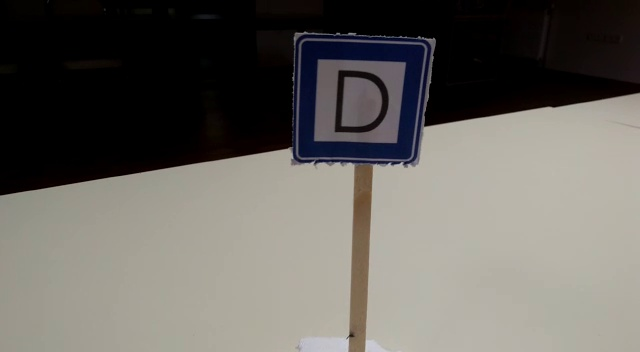durak: (292, 40, 426, 162)
